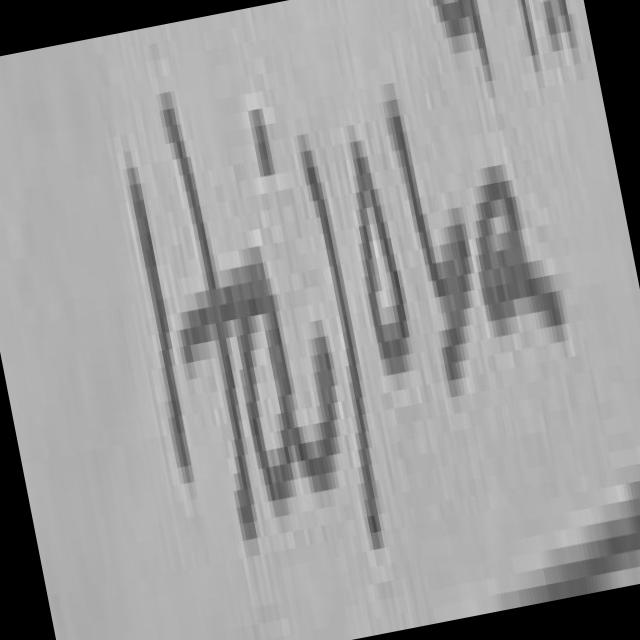H: (126, 93, 256, 540)
a: (229, 263, 329, 505), (481, 181, 564, 336)
b: (390, 100, 473, 389)
i: (316, 337, 337, 488), (253, 109, 277, 177)
l: (305, 151, 383, 541)
o: (355, 141, 409, 374)
